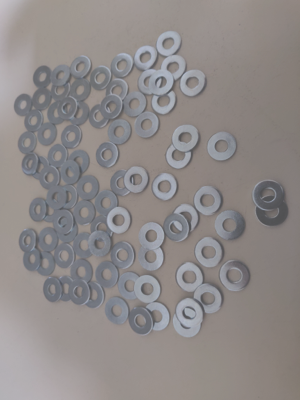circle: (219, 260, 251, 292), (253, 179, 284, 211), (215, 210, 246, 241), (256, 197, 288, 227), (194, 237, 224, 268), (207, 131, 238, 161), (134, 271, 162, 304), (175, 261, 204, 291), (194, 284, 223, 314), (176, 298, 205, 328), (193, 186, 223, 215), (174, 308, 202, 338), (110, 240, 137, 271), (138, 243, 166, 272), (143, 302, 170, 332), (128, 306, 154, 337), (171, 204, 199, 232), (68, 258, 95, 287), (172, 126, 200, 153), (139, 222, 166, 250), (105, 296, 130, 326), (95, 260, 120, 290), (152, 173, 179, 200), (106, 207, 133, 234), (180, 70, 206, 98), (166, 142, 192, 169), (161, 55, 187, 82), (156, 31, 183, 57), (165, 214, 190, 242), (138, 66, 163, 94), (117, 272, 142, 300), (149, 69, 174, 96), (76, 174, 101, 201), (125, 165, 149, 193), (123, 90, 147, 118), (88, 230, 112, 258), (73, 198, 97, 226), (110, 169, 134, 197), (69, 278, 92, 307), (134, 45, 159, 71), (100, 94, 125, 120), (135, 112, 159, 139), (94, 190, 118, 217), (81, 281, 104, 309), (90, 215, 113, 242), (54, 242, 76, 270), (109, 120, 133, 145), (152, 90, 176, 115), (67, 78, 92, 102), (96, 142, 119, 168), (67, 101, 90, 127), (111, 54, 135, 78), (39, 165, 61, 191), (42, 277, 63, 304), (35, 251, 56, 278), (89, 104, 111, 129), (90, 65, 111, 91), (21, 247, 42, 273), (73, 232, 93, 259), (70, 56, 93, 79), (106, 79, 128, 103), (23, 110, 45, 134), (46, 186, 68, 210), (38, 228, 59, 253), (57, 96, 78, 121), (53, 210, 74, 235), (68, 149, 89, 174), (47, 144, 68, 169), (60, 160, 80, 186), (32, 65, 54, 88), (61, 125, 82, 149), (47, 100, 66, 126), (50, 79, 71, 102), (51, 64, 71, 87), (37, 123, 57, 146), (18, 229, 37, 253), (14, 93, 33, 117), (28, 198, 47, 222), (32, 88, 51, 111), (18, 131, 36, 155), (22, 152, 39, 176)
